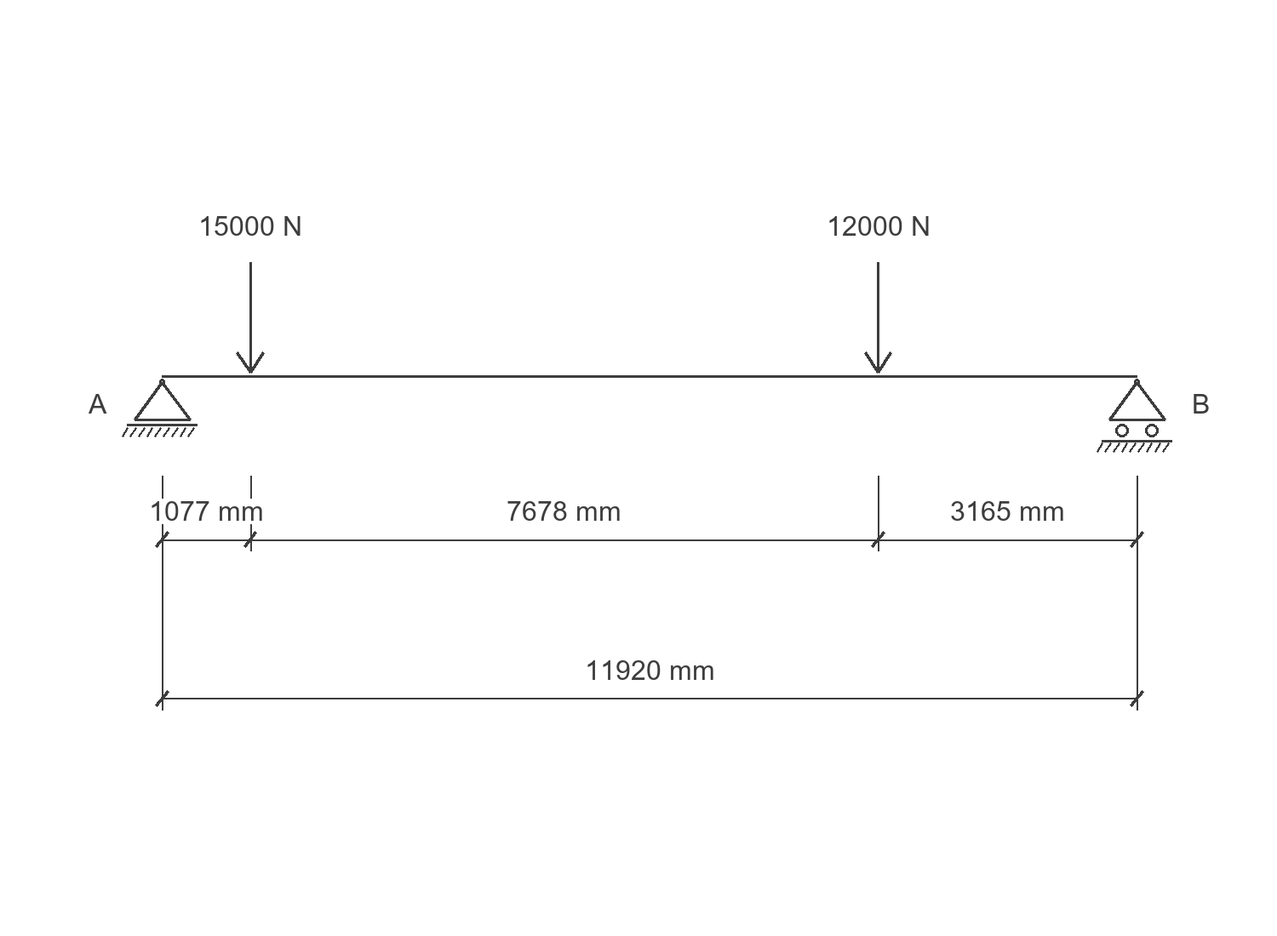pin_support: (122, 379, 198, 437)
point_load: (236, 262, 265, 374), (864, 262, 892, 374)
roller_support: (1097, 379, 1172, 453)
